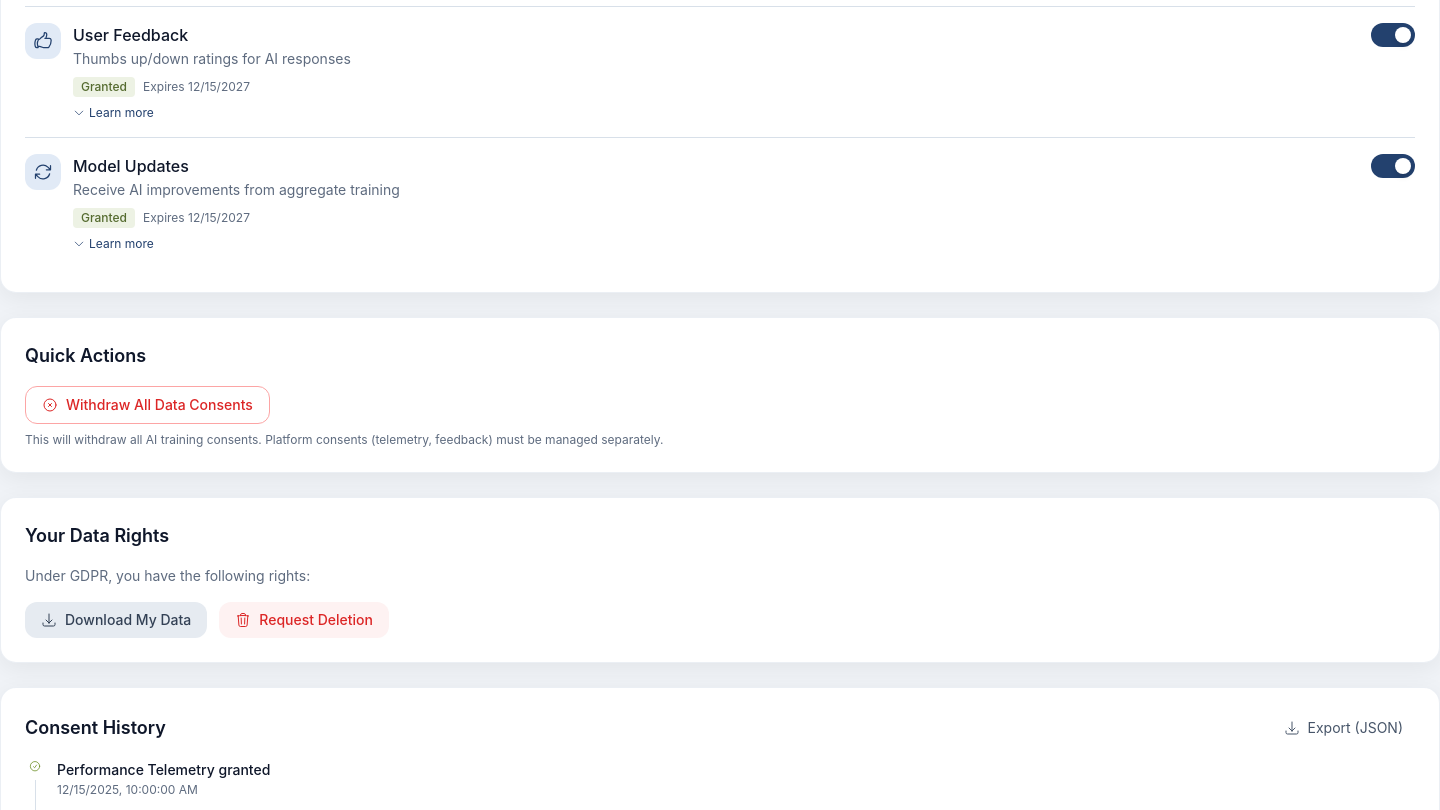
Test: PrivacyTrainingSettings › withdraw all modal › clicking Withdraw All Data Consents opens modal
The width and height of the screenshot is (1440, 810).
(page scrolled)
Click the button "Withdraw All Data Consents" at (147, 405), box [25,386,270,424]
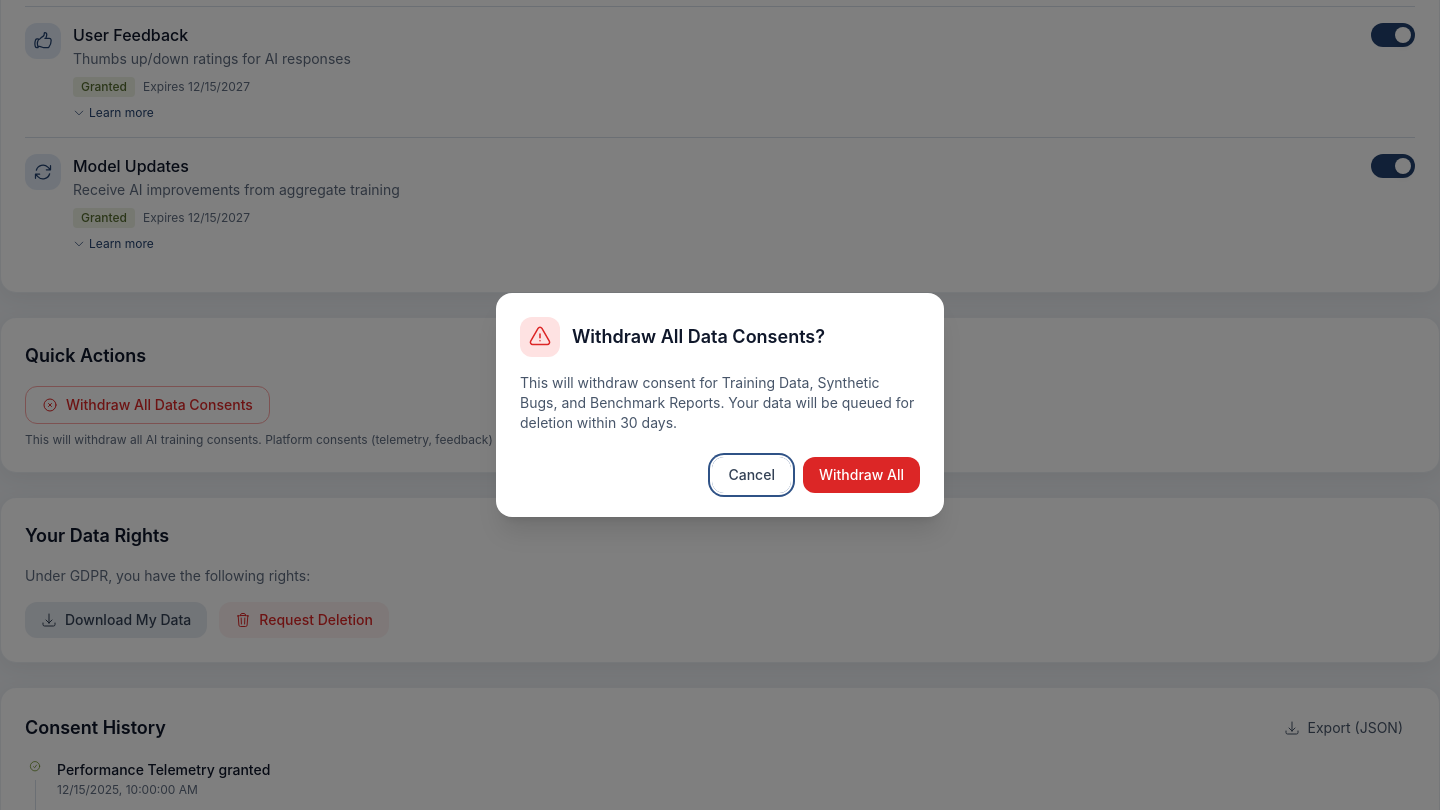
Expected: the heading "Withdraw All Data Consents?" is shown, [572,323,825,351]
